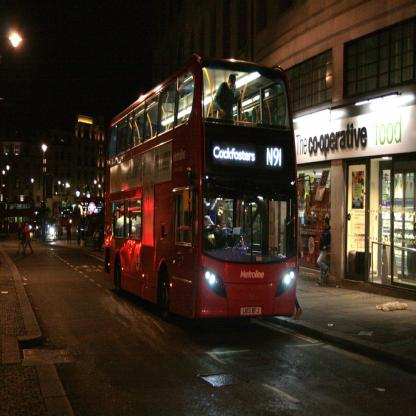Bus: (106, 53, 298, 326)
